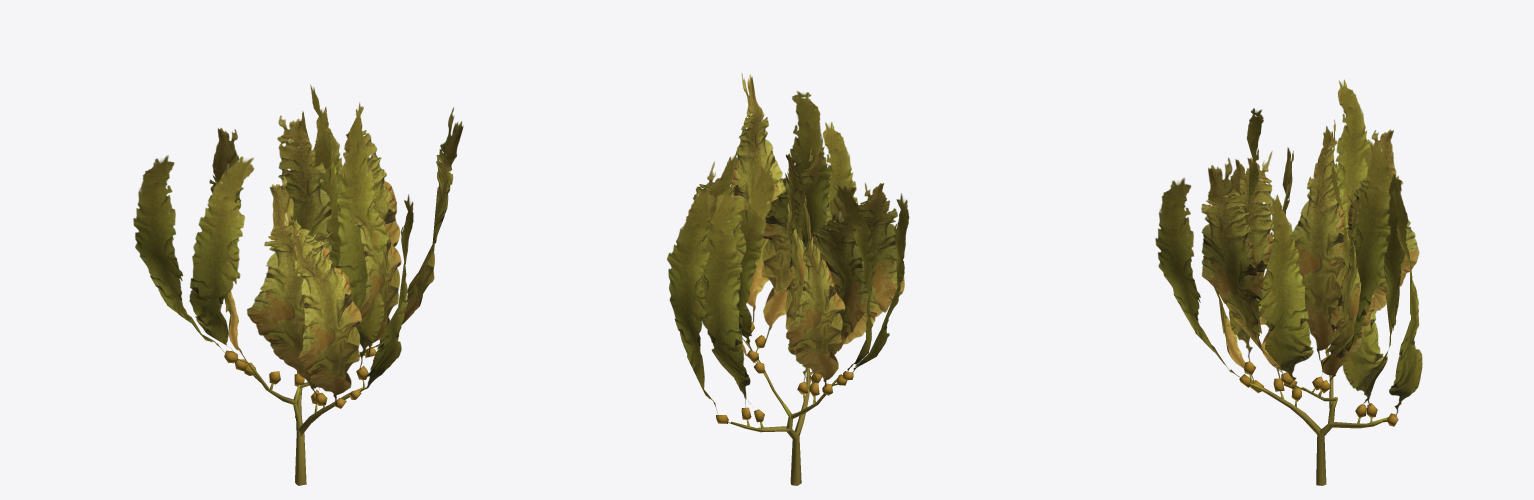
File: seaweed.glb
3 renders of one model, left to right at view 1: azimuth 30°, elevation 25°; view 2: azimuth 150°, elevation 25°; view 3: azimuth 270°, elevation 25°, orthographic. The views are drawn at different scales.
Visible parts, largest first — view 1: Seaweed_Yellow_V3; view 2: Seaweed_Yellow_V3; view 3: Seaweed_Yellow_V3.
Part boxes in pixels (left/top/right/bottom): Seaweed_Yellow_V3: left=133, top=84, right=463, bottom=485; Seaweed_Yellow_V3: left=667, top=73, right=909, bottom=485; Seaweed_Yellow_V3: left=1155, top=79, right=1422, bottom=485.
Bounding box in the file's own units: 3.18 × 2.82 × 3.08.
Materials: 1 (1 with a texture image).
